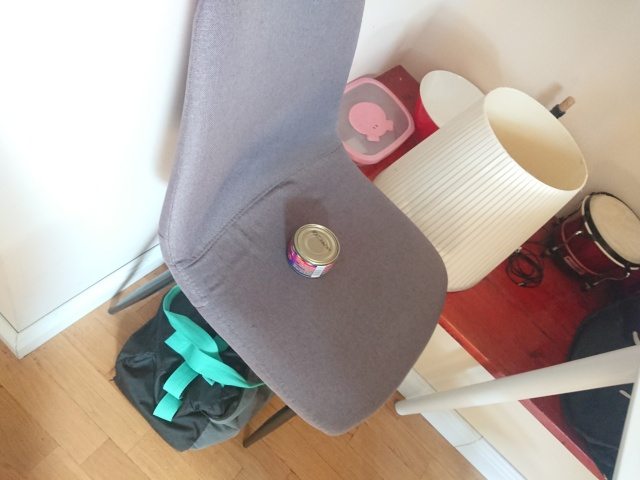Giana Tuna Salad Mexico 185g: (285, 221, 342, 281)
